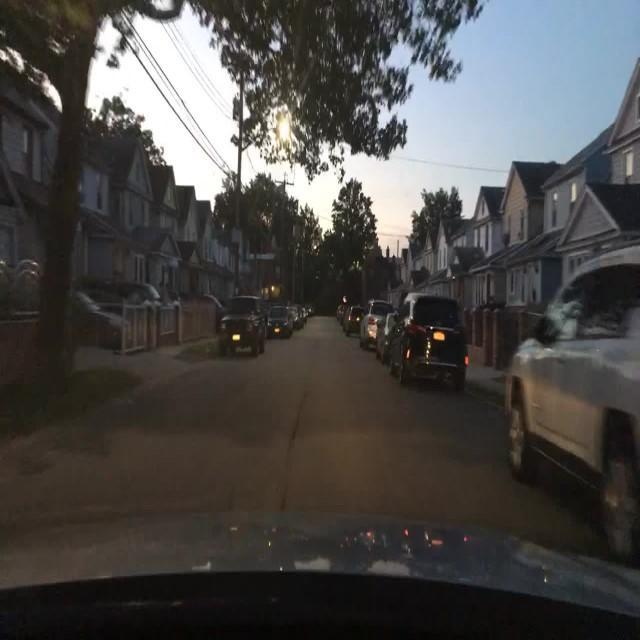normal: (502, 244, 640, 558), (377, 293, 469, 391), (215, 307, 266, 359), (360, 302, 394, 353), (267, 304, 293, 338), (341, 304, 367, 335)
